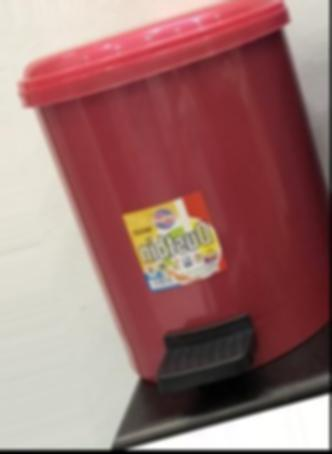Bote de Basura: (14, 0, 329, 392)
